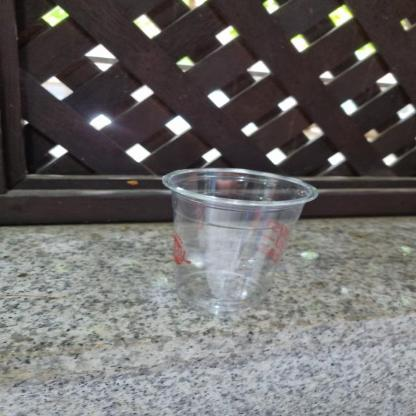Plastic Cup: (156, 164, 322, 318)
